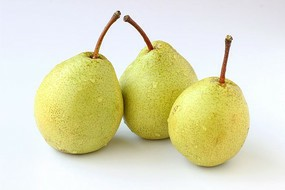pear: (33, 50, 123, 154), (119, 39, 199, 139), (168, 77, 248, 167)
